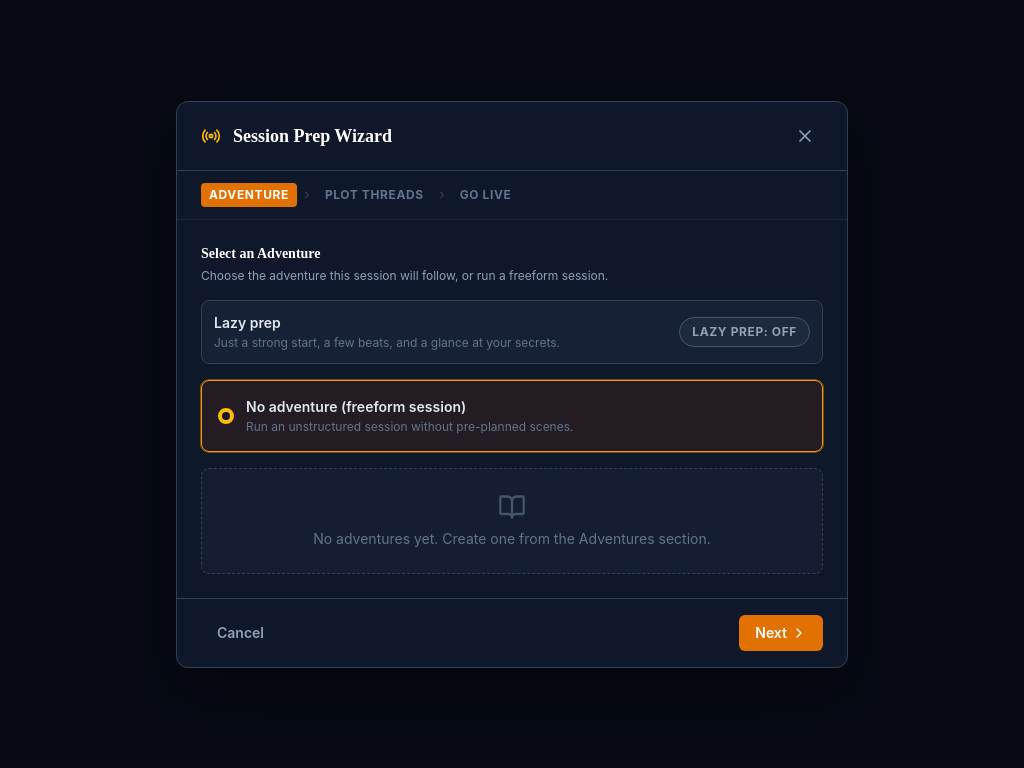
Test: Scene Menu Generator — where the button is › offers "Suggest a few" above the manual add-beat row, present from the start
The image size is (1024, 768).
Click the button "Lazy prep: off": click(745, 332) [679,316,810,346]
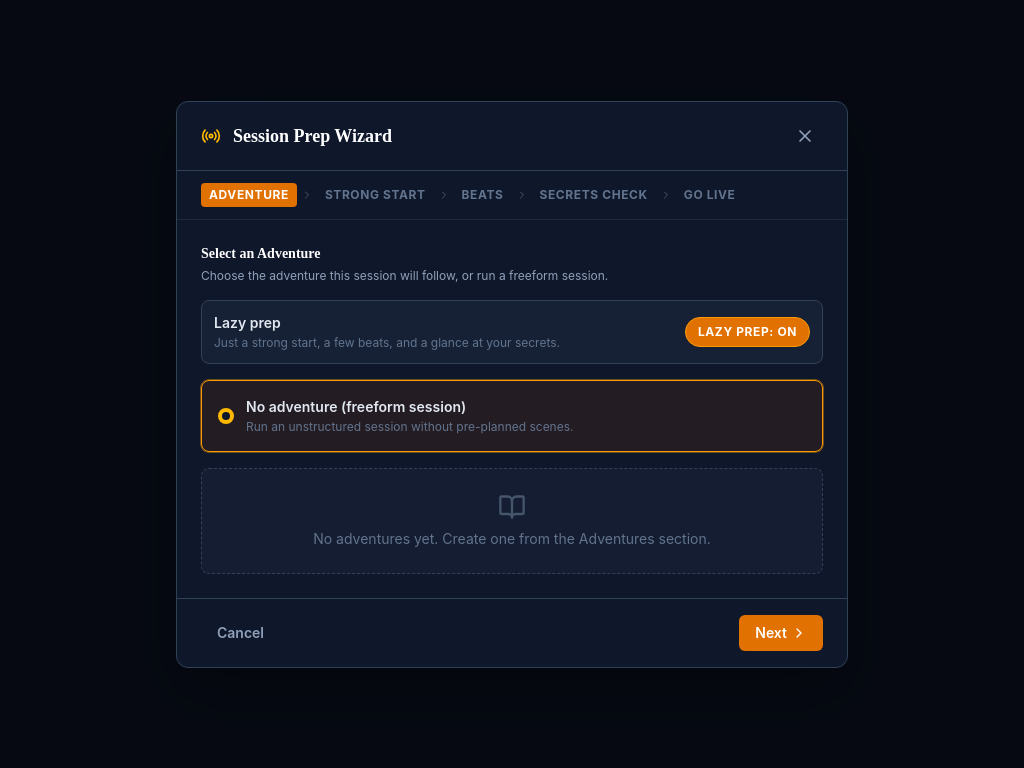
Click the button "Beats": click(483, 194) [454,182,512,206]
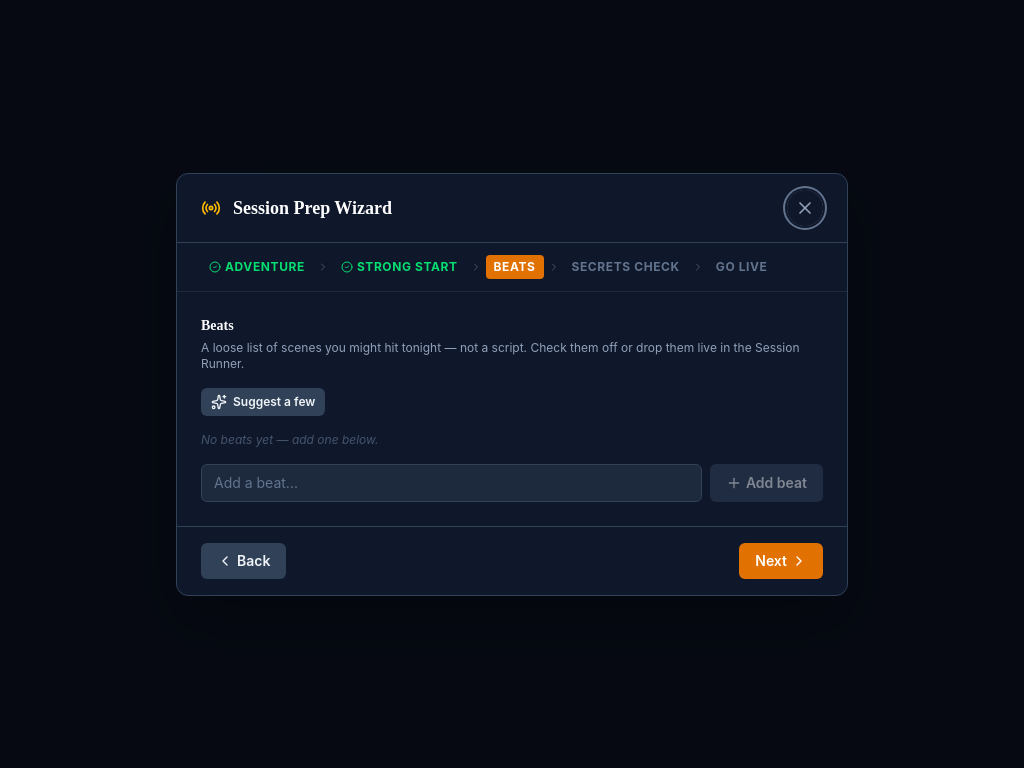
Check: the button "Suggest a few" is shown, box [201,388,325,416]
